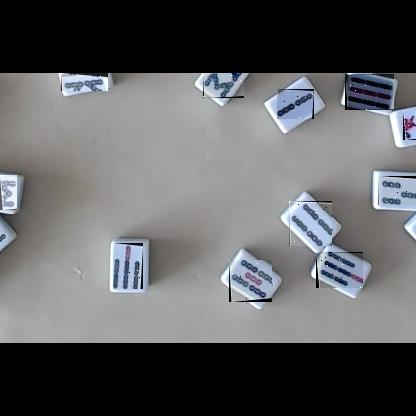1s: (403, 110, 416, 140)
2s: (277, 89, 314, 119)
3s: (378, 176, 416, 205)
4s: (289, 201, 332, 246)
5s: (229, 260, 272, 302)
7s: (316, 252, 363, 288), (113, 243, 143, 289)
8s: (203, 73, 244, 98), (61, 73, 108, 91), (0, 175, 17, 210)
9s: (345, 74, 394, 110)
